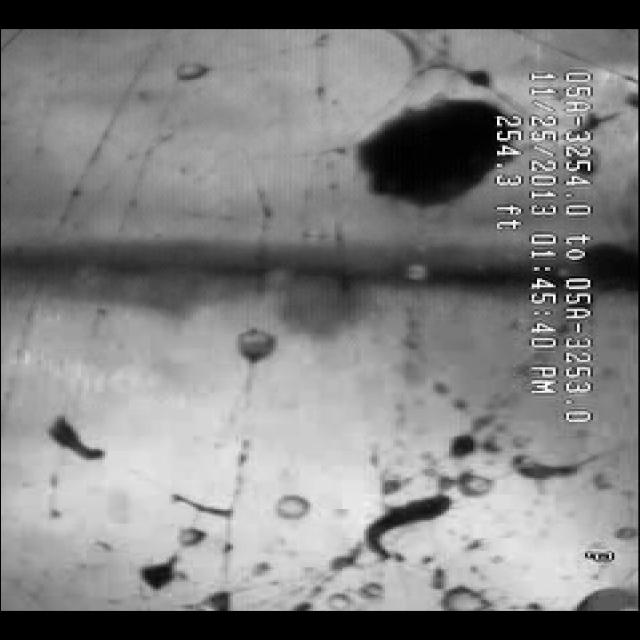Crack: (26, 57, 362, 575)
